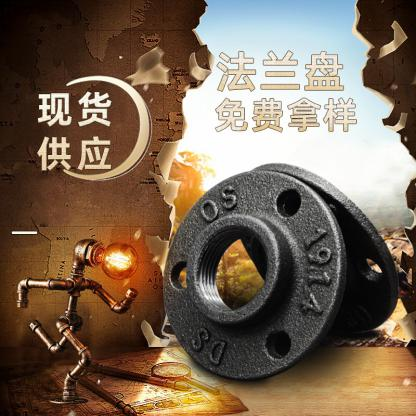FOD: (158, 166, 348, 387), (242, 161, 400, 338)
